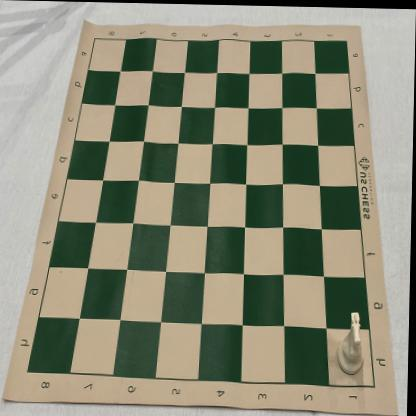white-knight: (338, 310, 367, 374)
